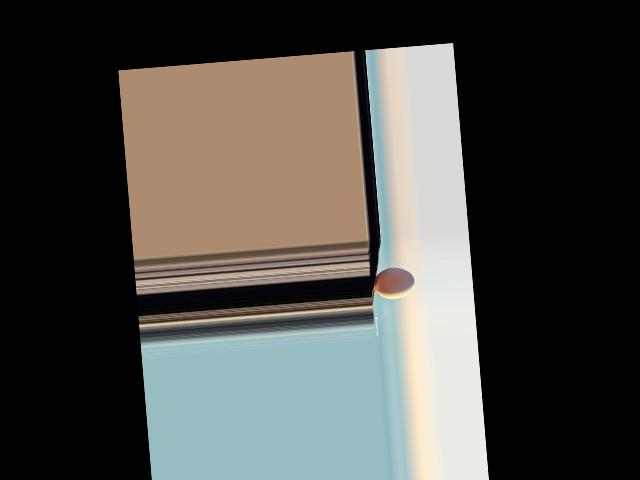egg: (373, 265, 416, 301)
